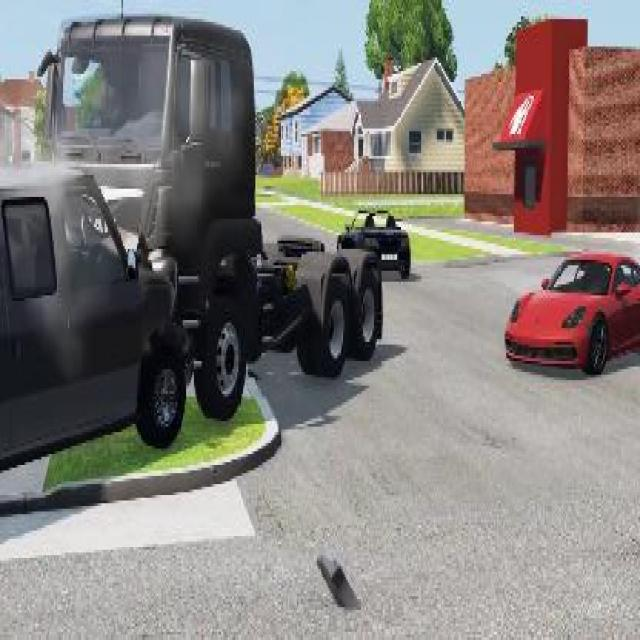accident: (0, 0, 389, 473)
